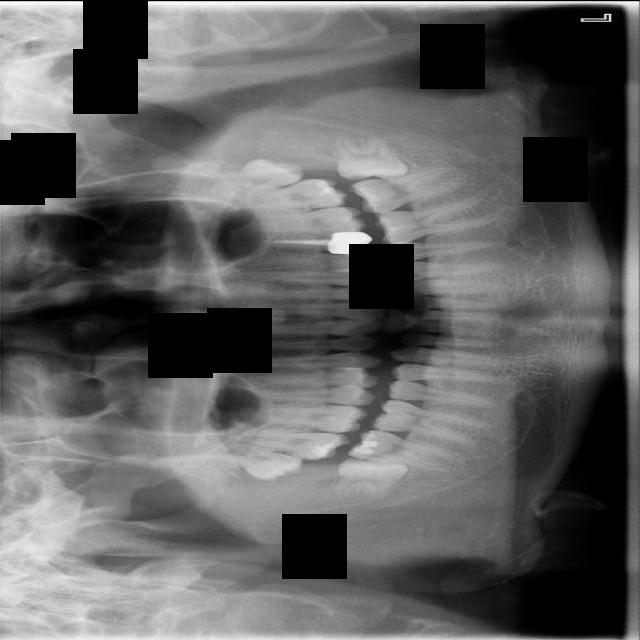3M ESPE Implant: (201, 434, 305, 488)
52: (345, 416, 400, 473), (286, 427, 353, 463), (289, 174, 349, 210), (326, 230, 373, 255)
73: (259, 232, 334, 254), (616, 10, 622, 18)
BioHorizons Implant: (199, 176, 349, 213)
BioLife Implant: (205, 148, 307, 205)
Biomet 3i Implant: (334, 131, 409, 182)
Blue Sky Bio Implant: (348, 162, 464, 218)
Caries: (214, 427, 352, 461)
Implant: (345, 424, 466, 473)
Keystone Dental Implant: (333, 457, 409, 501)
